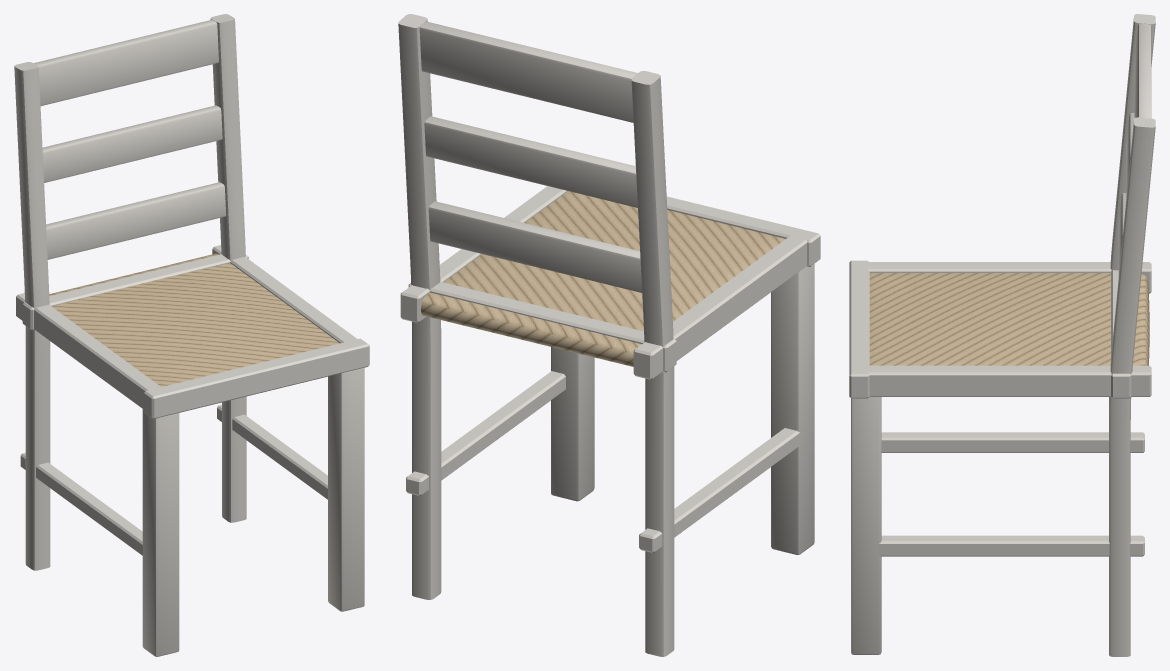
File: silla_cocina_blanca.glb
3 renders of one model, left to right at view 1: azimuth 30°, elevation 25°; view 2: azimuth 150°, elevation 25°; view 3: azimuth 270°, elevation 25°, orthographic. The views are drawn at different scales.
Parts seen in each view (by area): view 1: silla_cocina_blanca; view 2: silla_cocina_blanca; view 3: silla_cocina_blanca.
Part boxes in pixels (x1,y1,x2,y2): silla_cocina_blanca: (14,14,369,656); silla_cocina_blanca: (398,14,820,656); silla_cocina_blanca: (849,14,1155,656).
Size of the model in its own units: 0.4 by 0.8614 by 0.451.
2 materials, 1 textured.
